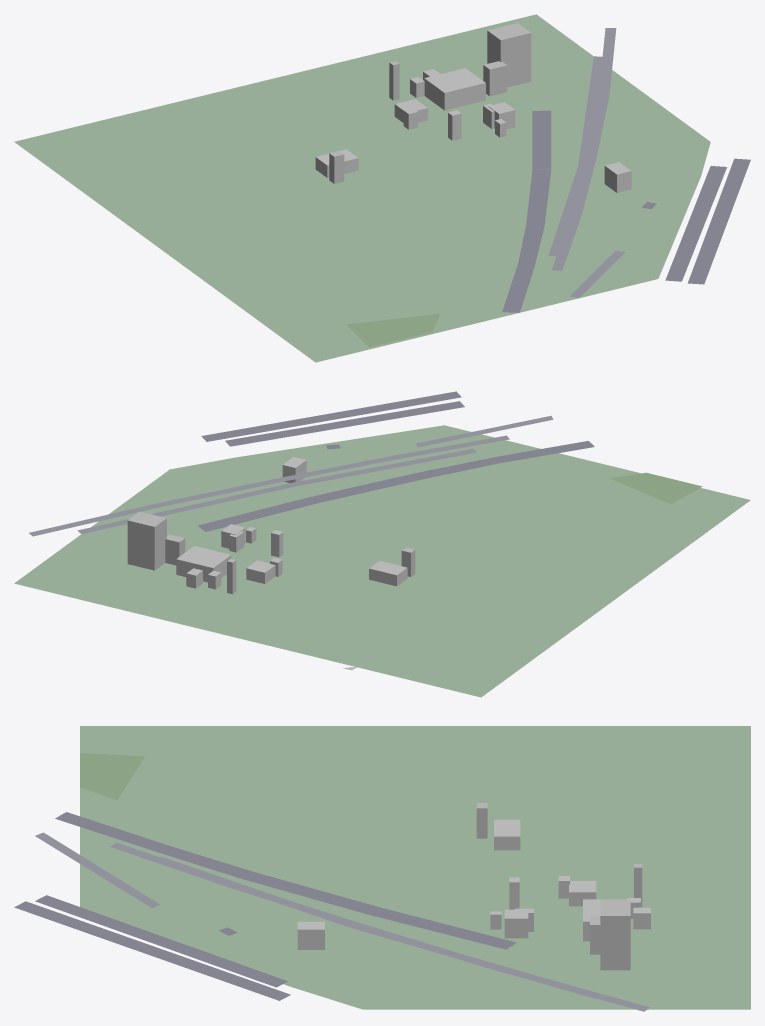
Rendered from 131_84_mid.glb.
The picture shows the model from 3 angles, top to bottom: view 1: azimuth 30°, elevation 25°; view 2: azimuth 150°, elevation 25°; view 3: azimuth 270°, elevation 25°; orthographic projection. The views are drawn at different scales.
Bounding box in the file's own units: 531 × 49.14 × 549.
